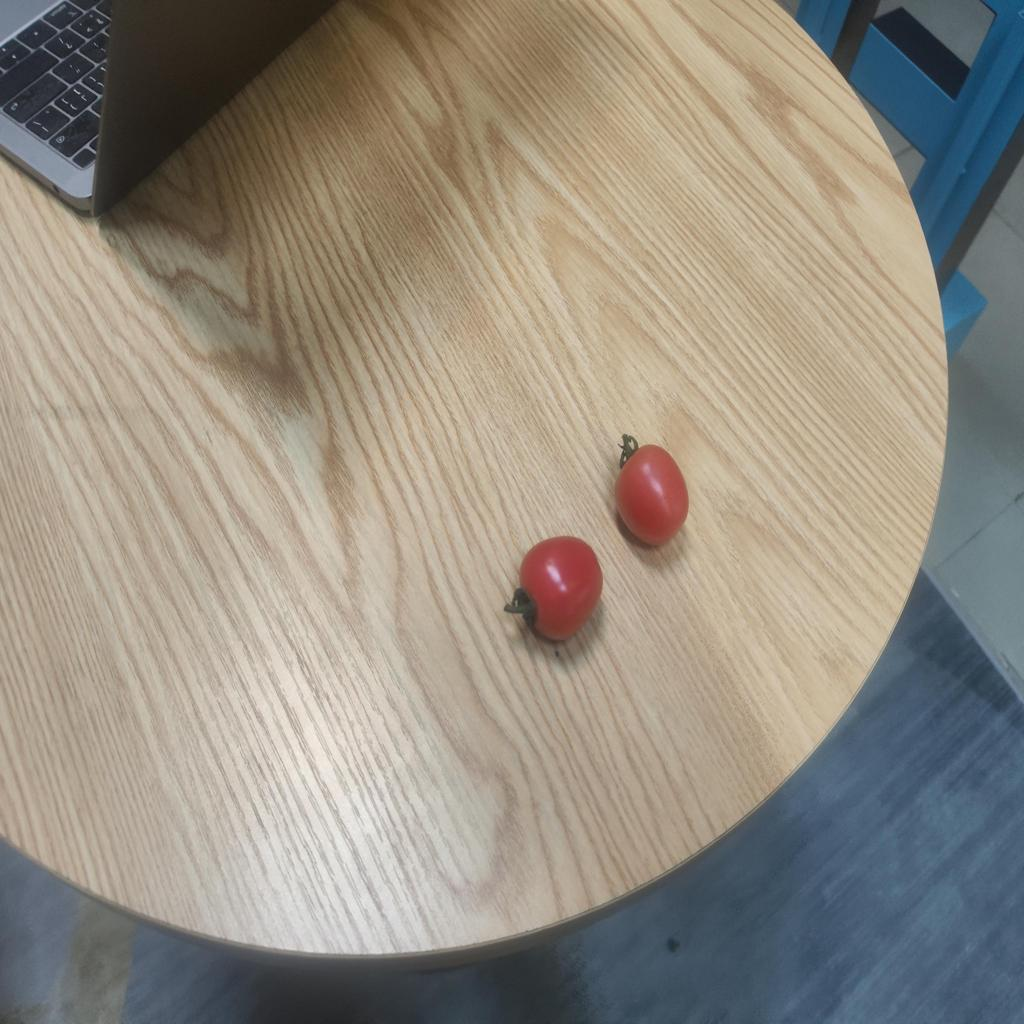tomato: (512, 542, 606, 634), (616, 443, 691, 551)
